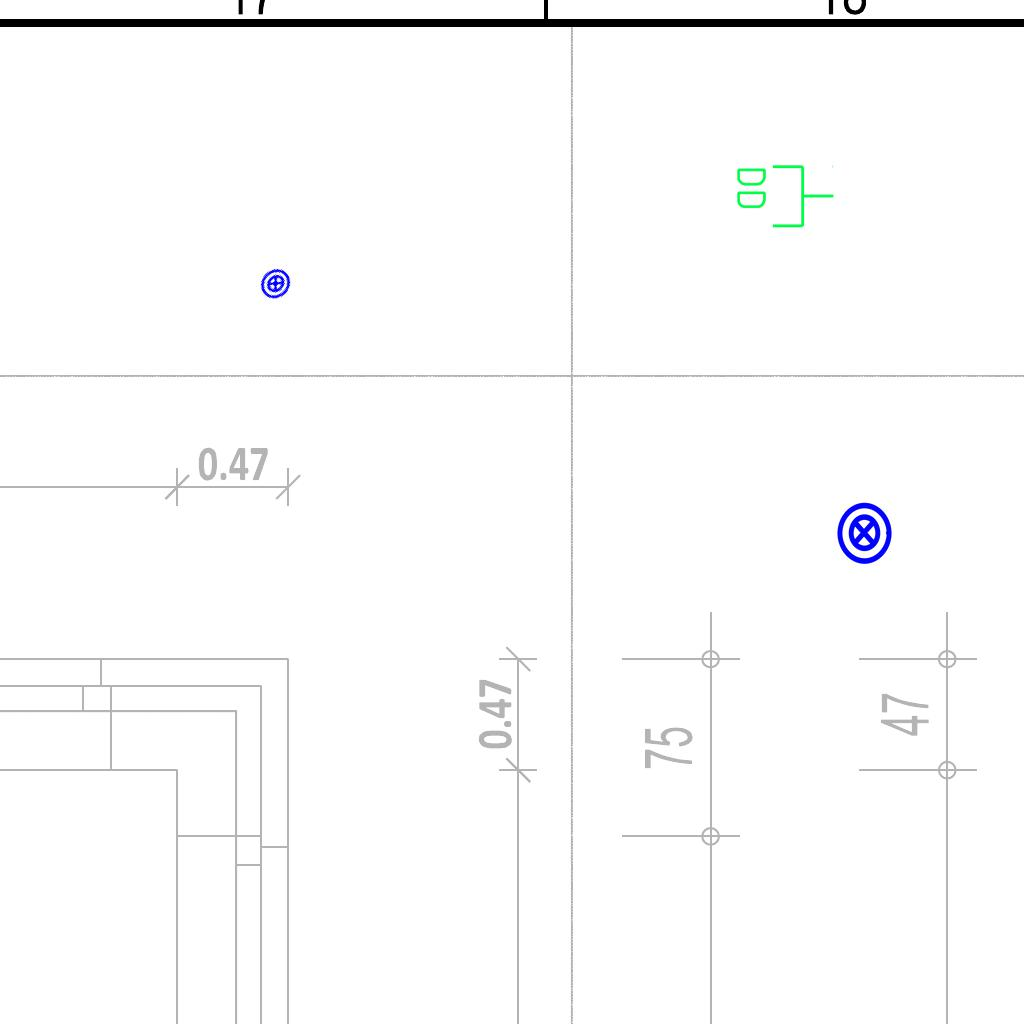Datenanschluss_zweifach: (733, 161, 836, 230)
Taster_beleuchtet: (831, 500, 897, 566), (252, 260, 299, 307)
